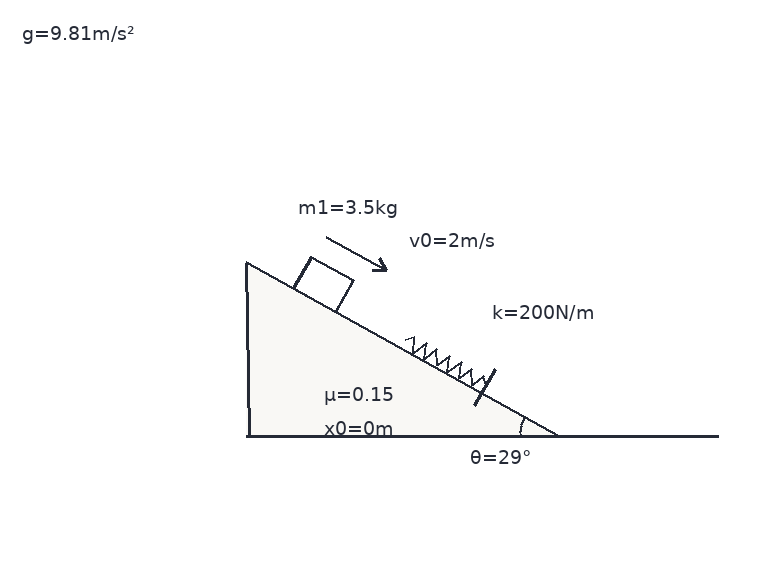block: (291, 255, 355, 314)
ramp: (245, 260, 562, 438)
spring: (403, 335, 488, 387)
